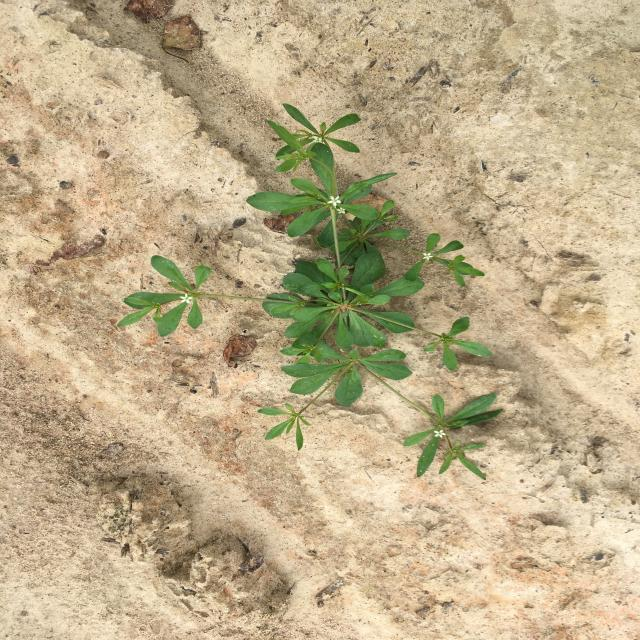Carpetweed: (117, 103, 504, 480)
